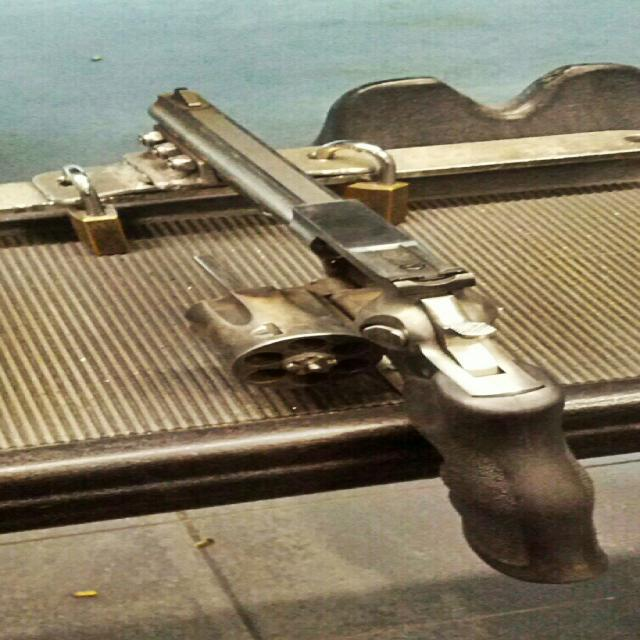Gun: (150, 90, 606, 582)
